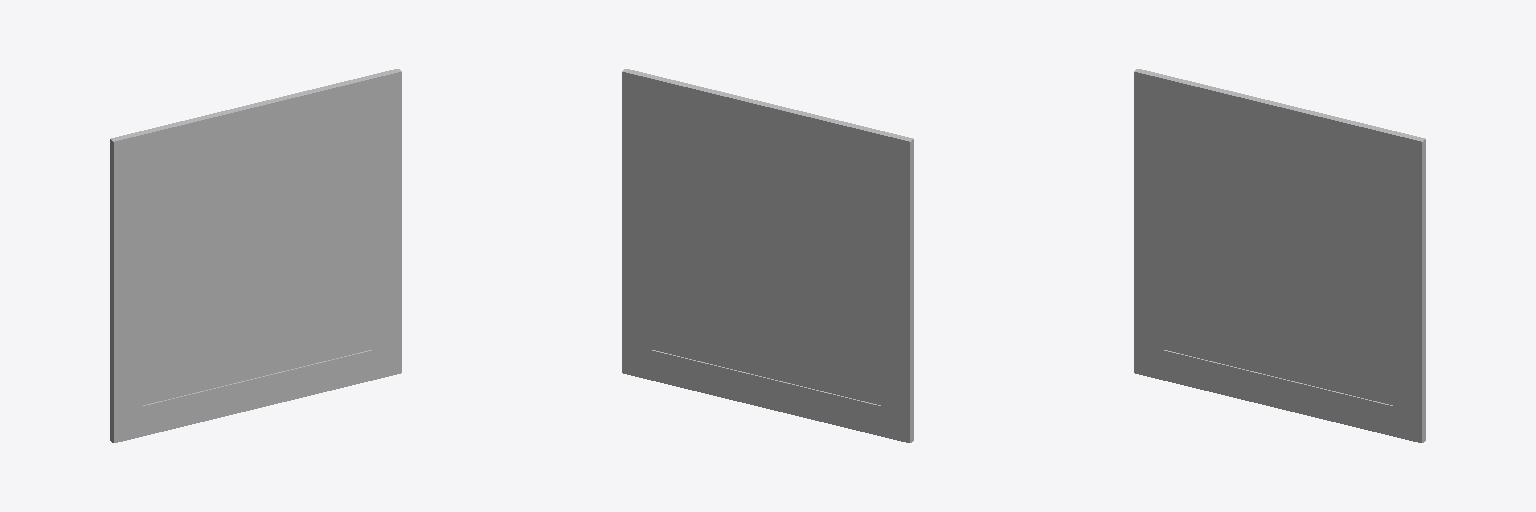
File: windowSide.obj
The picture shows the model from 3 angles: view 1: azimuth 30°, elevation 25°; view 2: azimuth 150°, elevation 25°; view 3: azimuth 330°, elevation 25°; orthographic projection.
Visible parts, largest first — view 1: Cube.004_Cube.008, Cube, Cube.003_Cube.007, Cube.001, Cube.002; view 2: Cube.004_Cube.008, Cube, Cube.003_Cube.007, Cube.001, Cube.002; view 3: Cube.004_Cube.008, Cube.003_Cube.007, Cube, Cube.001, Cube.002.
Boxes of the visible parts, <box> form: Cube.004_Cube.008: <box>143,109,372,404</box>; Cube: <box>110,132,142,442</box>; Cube.003_Cube.007: <box>369,69,401,379</box>; Cube.001: <box>139,76,372,164</box>; Cube.002: <box>143,350,372,435</box>; Cube.004_Cube.008: <box>651,109,880,404</box>; Cube: <box>881,132,913,442</box>; Cube.003_Cube.007: <box>622,69,654,379</box>; Cube.001: <box>651,76,884,164</box>; Cube.002: <box>651,350,880,435</box>; Cube.004_Cube.008: <box>1163,109,1392,404</box>; Cube.003_Cube.007: <box>1393,132,1425,442</box>; Cube: <box>1134,69,1166,379</box>; Cube.001: <box>1163,76,1396,164</box>; Cube.002: <box>1163,350,1392,435</box>.
Bounding box in the file's own units: 4 × 4 × 0.1.